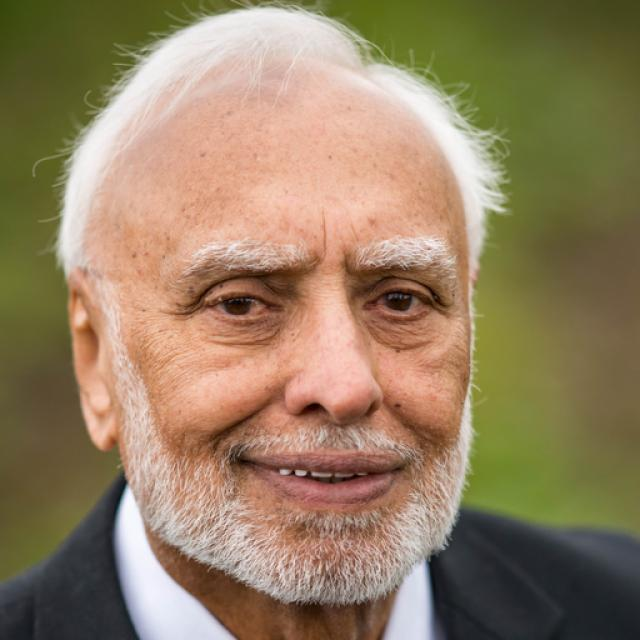Acne: (365, 213, 380, 227)
Pigmentation: (169, 125, 272, 228)
